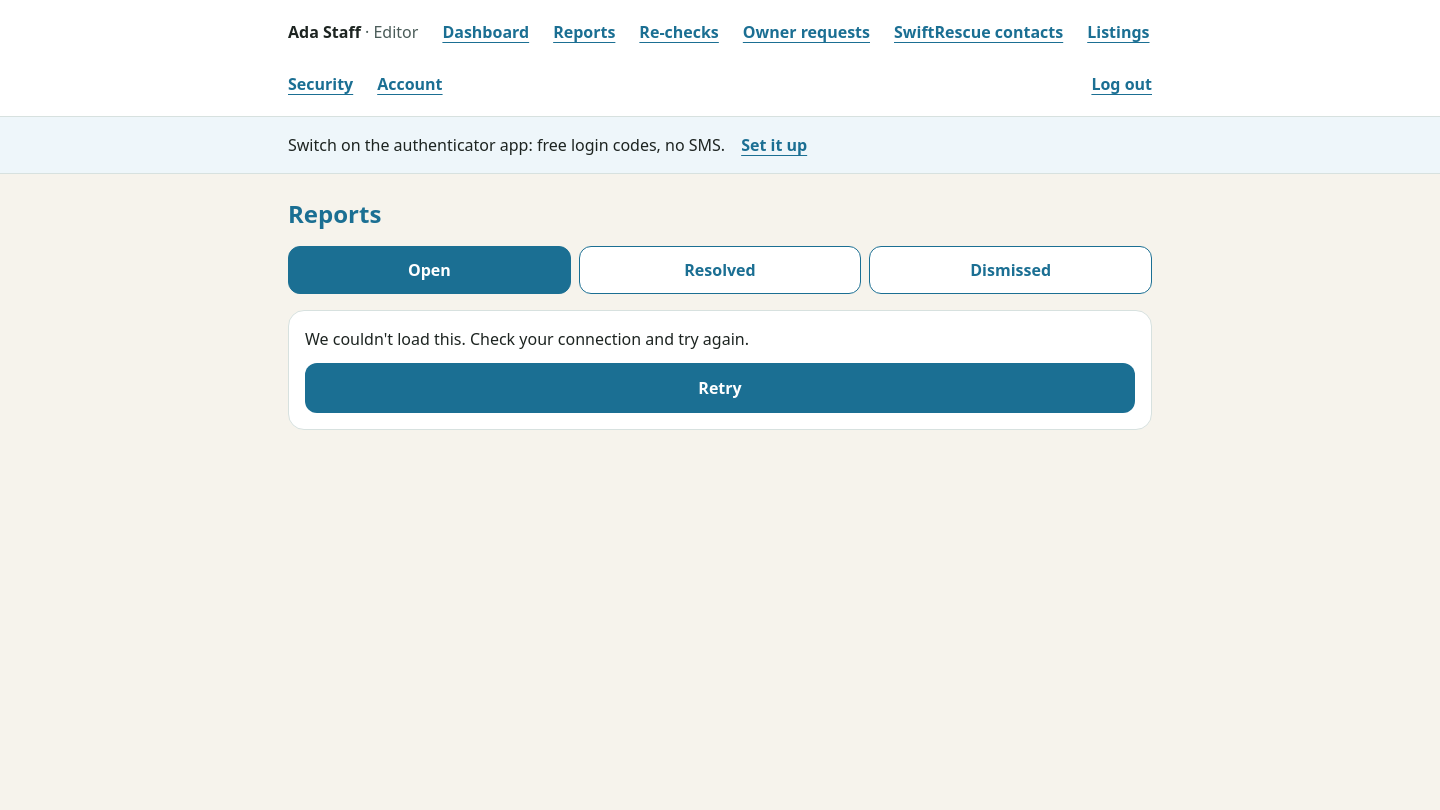
Test: paging and states › Retry asks again after an error
What coordinates should you click on to do the following:
click the button "Retry"
I would click on:
 (720, 388)
Its box is [305,363,1135,413].
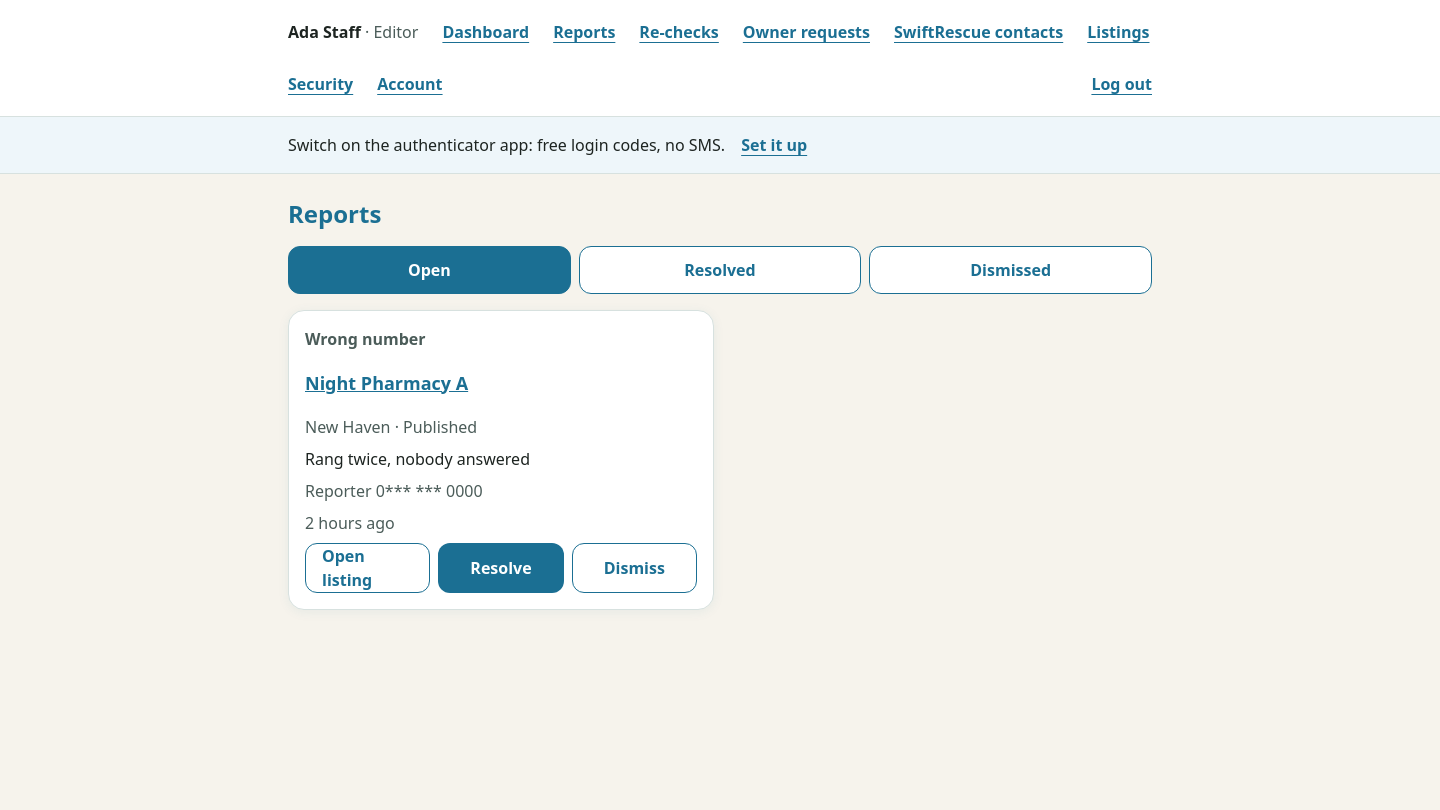
Check: the element that starts with "Wrong number" is shown, box [288,310,714,610]
